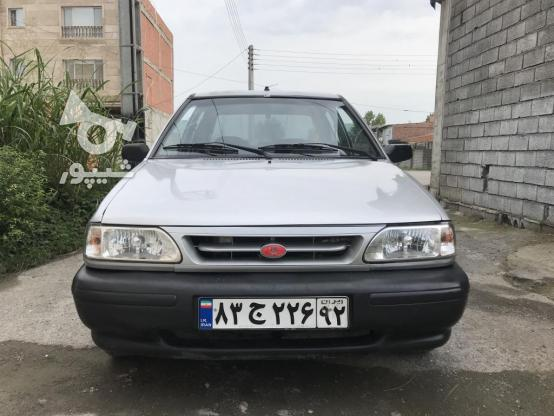car: (195, 297, 353, 334)
